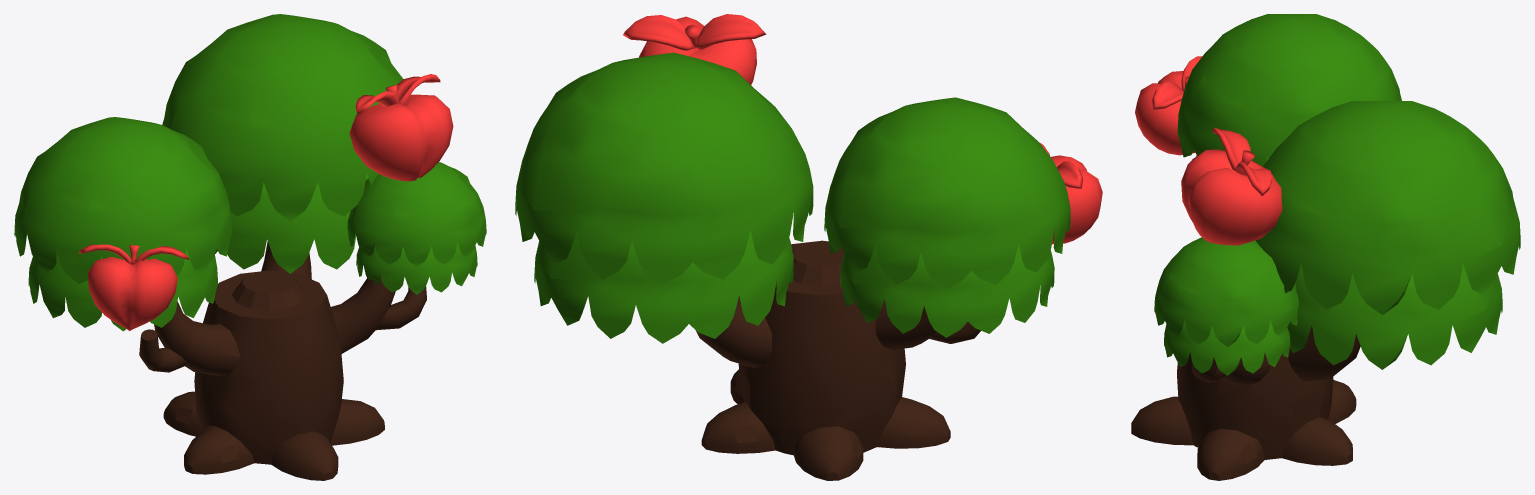
The model's file is 복숭아나무.fbx.
The picture shows the model from 3 angles, left to right: view 1: azimuth 30°, elevation 25°; view 2: azimuth 150°, elevation 25°; view 3: azimuth 270°, elevation 25°; orthographic projection. The views are drawn at different scales.
Visible parts, largest first — view 1: Cylinder040, low new leaf018, low new leaf020, low new leaf022, Sphere052, low new leaf017, Sphere051, low new leaf019, low new leaf021; view 2: low new leaf018, low new leaf020, Cylinder040, low new leaf017, low new leaf019, Sphere052, Sphere051; view 3: low new leaf018, low new leaf020, Cylinder040, low new leaf017, low new leaf022, Sphere052, low new leaf021, Sphere051.
Boxes of the visible parts, <box> form: Cylinder040: <box>139,241,426,480</box>; low new leaf018: <box>162,14,403,221</box>; low new leaf020: <box>14,117,231,283</box>; low new leaf022: <box>347,162,486,266</box>; Sphere052: <box>349,74,453,181</box>; low new leaf017: <box>215,173,368,273</box>; Sphere051: <box>78,244,189,330</box>; low new leaf019: <box>28,248,217,331</box>; low new leaf021: <box>356,242,477,294</box>; low new leaf018: <box>515,52,813,284</box>; low new leaf020: <box>824,97,1070,289</box>; Cylinder040: <box>696,240,980,480</box>; low new leaf017: <box>534,230,793,343</box>; low new leaf019: <box>840,244,1054,337</box>; Sphere052: <box>623,14,766,84</box>; Sphere051: <box>1040,143,1102,244</box>; low new leaf018: <box>1255,101,1520,314</box>; low new leaf020: <box>1177,14,1401,166</box>; Cylinder040: <box>1131,325,1360,480</box>; low new leaf017: <box>1287,264,1502,369</box>; low new leaf022: <box>1154,237,1298,346</box>; Sphere052: <box>1181,127,1282,245</box>; low new leaf021: <box>1164,320,1290,375</box>; Sphere051: <box>1135,56,1202,155</box>.
Size of the model in its own units: 55.31 by 43.26 by 41.98.
